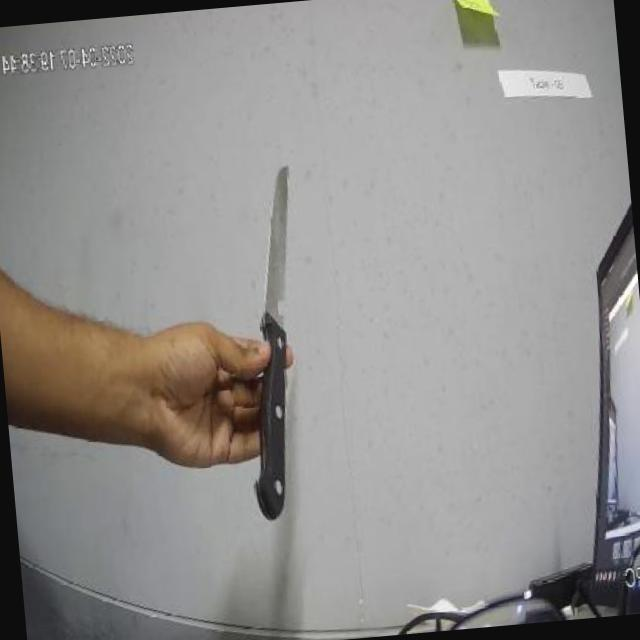knife: (216, 144, 332, 533)
